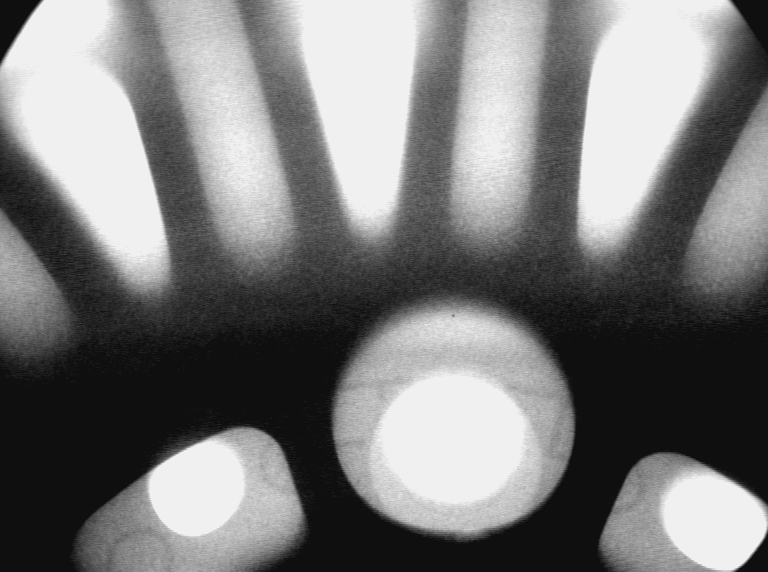defect: (453, 521, 493, 547)
